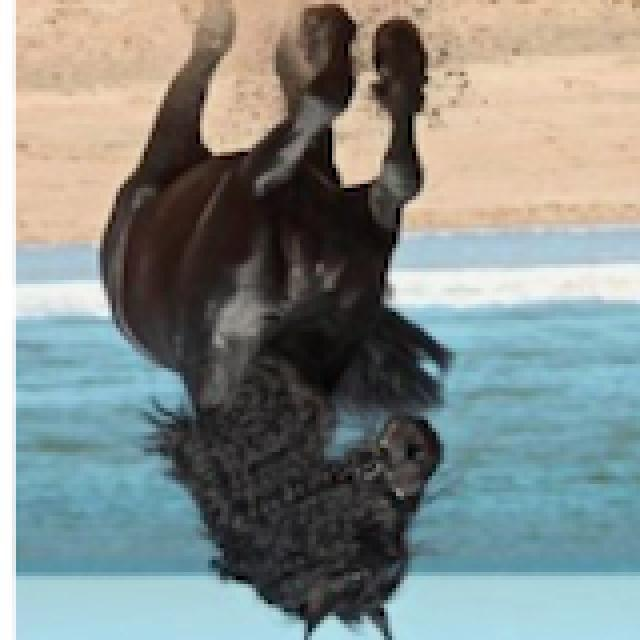Horse: (92, 4, 464, 640)
